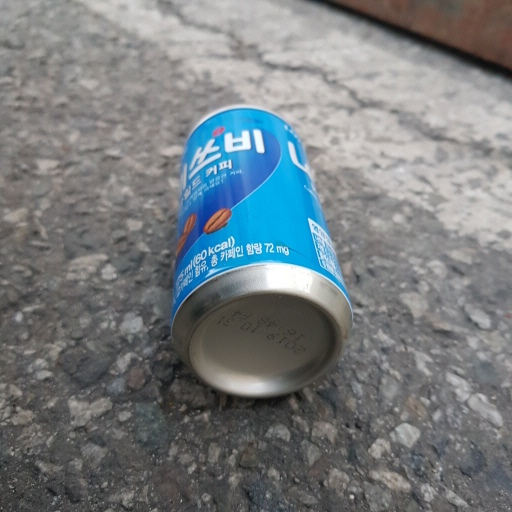Metal_0: (169, 102, 353, 395)
